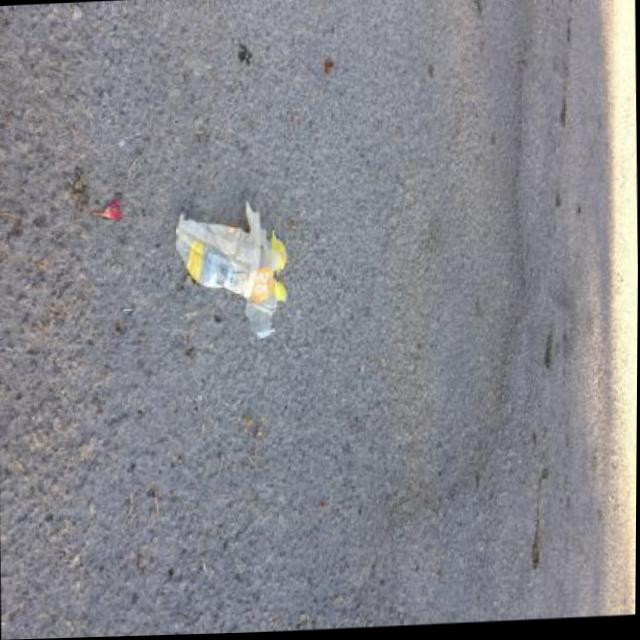plastic: (173, 198, 289, 345)
